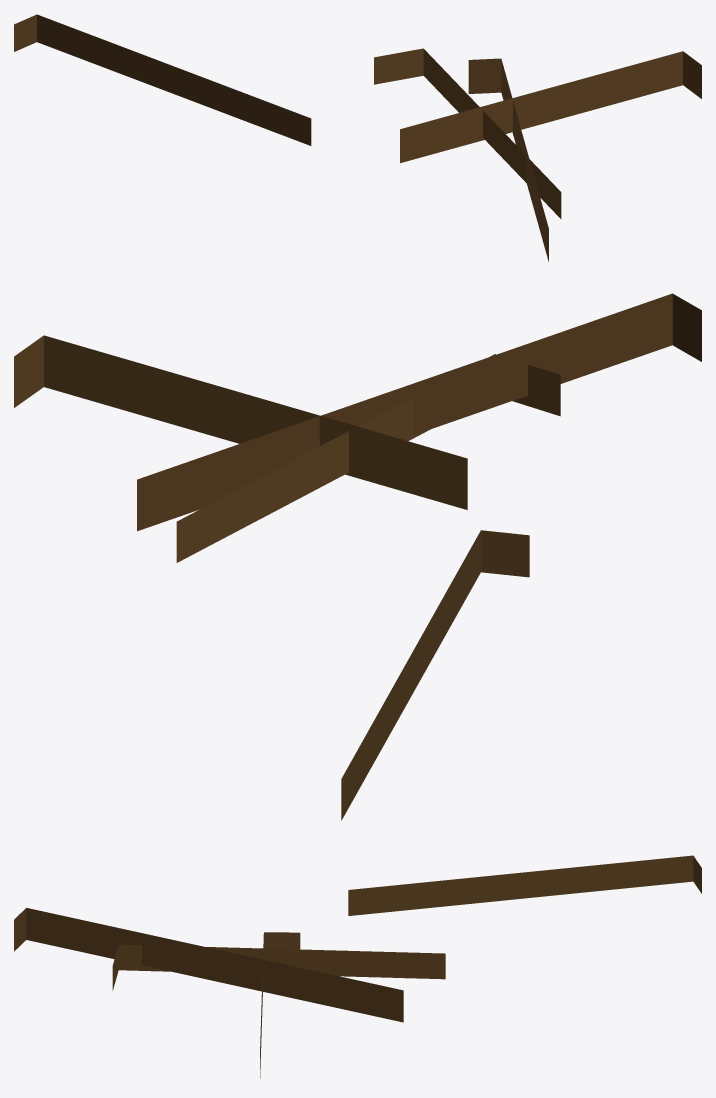
File: splinters.glb
The picture shows the model from 3 angles, top to bottom: view 1: azimuth 30°, elevation 25°; view 2: azimuth 150°, elevation 25°; view 3: azimuth 270°, elevation 25°; orthographic projection. The views are drawn at different scales.
Visible parts, largest first — view 1: splinters; view 2: splinters; view 3: splinters.
Boxes of the visible parts, left/top/right/bottom form: splinters: left=14, top=14, right=701, bottom=261; splinters: left=14, top=293, right=701, bottom=820; splinters: left=14, top=855, right=701, bottom=1078.
Bounding box in the file's own units: 0.3622 × 0.0358 × 0.4997.
